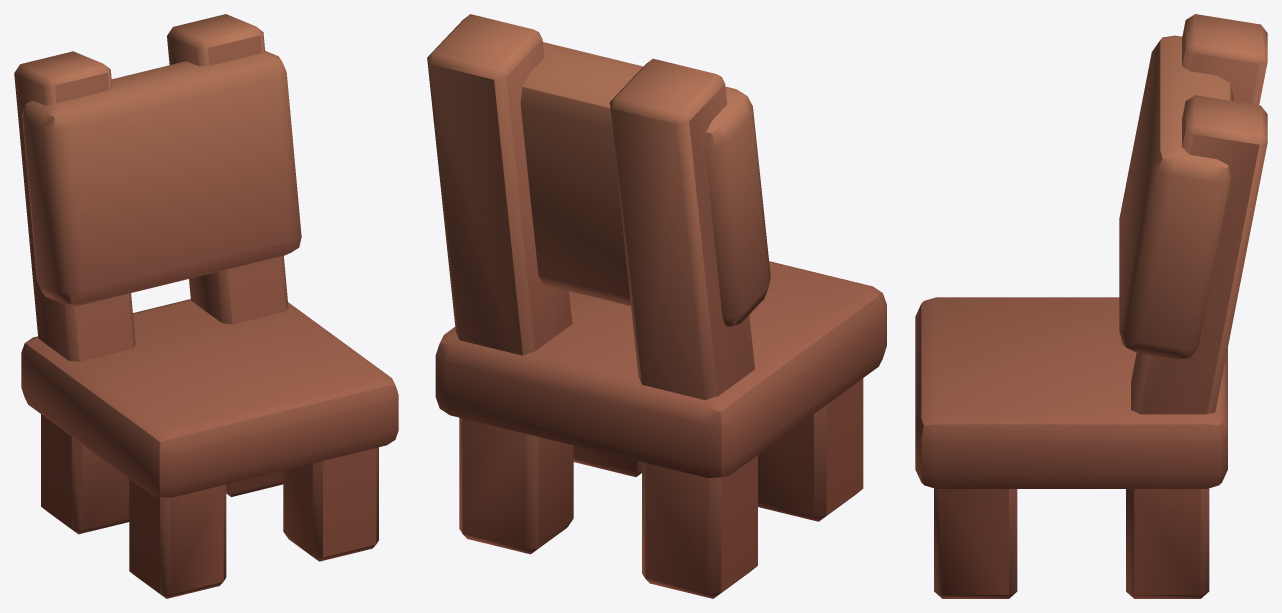
The picture shows the model from 3 angles, left to right: view 1: azimuth 30°, elevation 25°; view 2: azimuth 150°, elevation 25°; view 3: azimuth 270°, elevation 25°; orthographic projection. The views are drawn at different scales.
Parts seen in each view (by area): view 1: chair_B_wood; view 2: chair_B_wood; view 3: chair_B_wood.
Boxes of the visible parts, bbox=[...] form: chair_B_wood: bbox=[14, 14, 398, 598]; chair_B_wood: bbox=[427, 14, 886, 598]; chair_B_wood: bbox=[915, 14, 1267, 598].
Bounding box in the file's own units: 0.75 × 1.26 × 0.8451.
Materials: 1 (1 with a texture image).
